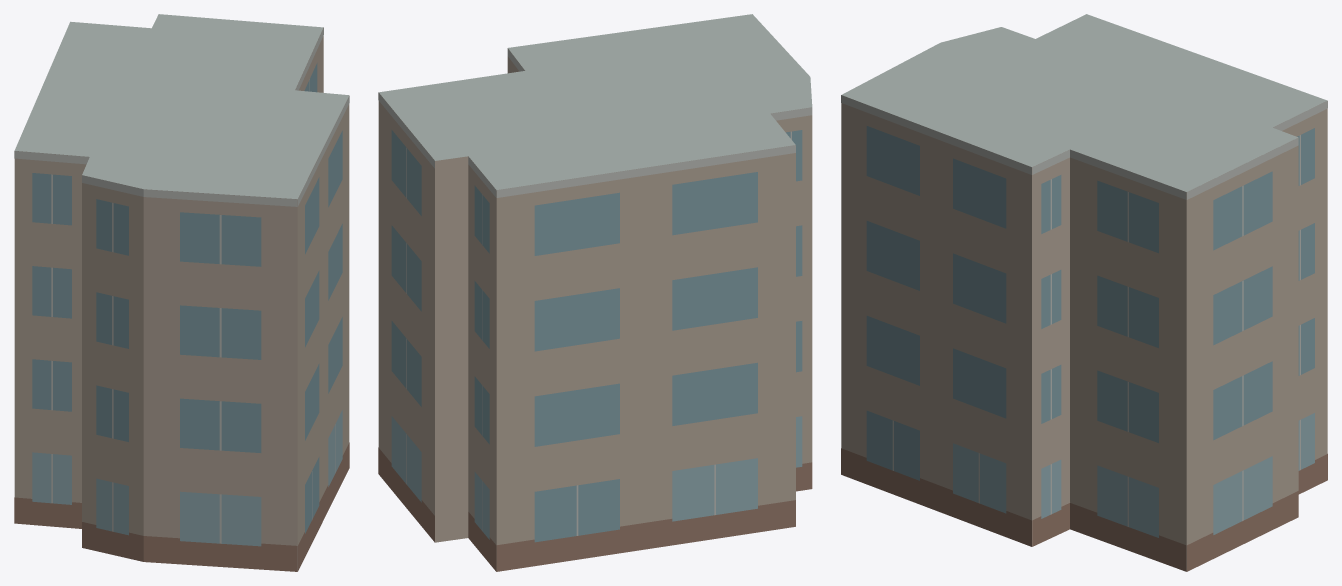
File: survey-upis-32722696.glb
The picture shows the model from 3 angles, left to right: view 1: azimuth 30°, elevation 25°; view 2: azimuth 150°, elevation 25°; view 3: azimuth 270°, elevation 25°; orthographic projection. The views are drawn at different scales.
Parts seen in each view (by area): view 1: survey-upis-32722696.tmp; view 2: survey-upis-32722696.tmp; view 3: survey-upis-32722696.tmp.
Boxes of the visible parts, <box> form: survey-upis-32722696.tmp: <box>14,14,349,571</box>; survey-upis-32722696.tmp: <box>378,14,812,571</box>; survey-upis-32722696.tmp: <box>841,14,1327,571</box>.
Bounding box in the file's own units: 11.78 × 11.7 × 13.59.
